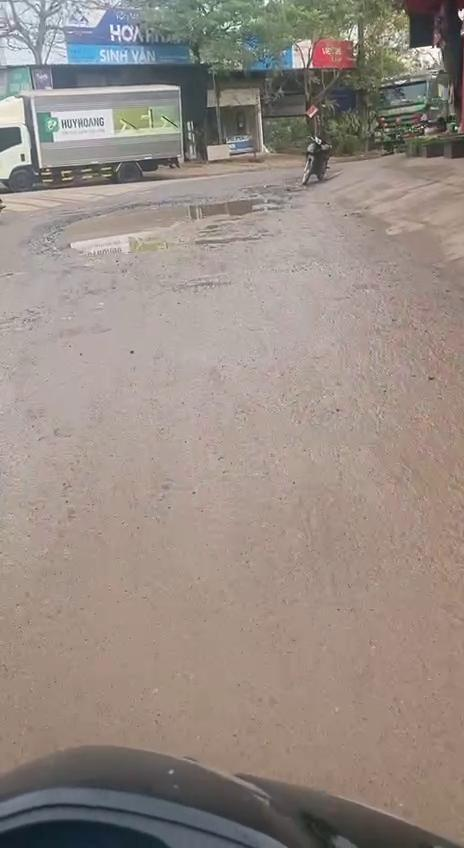pothole: (27, 188, 290, 264)
